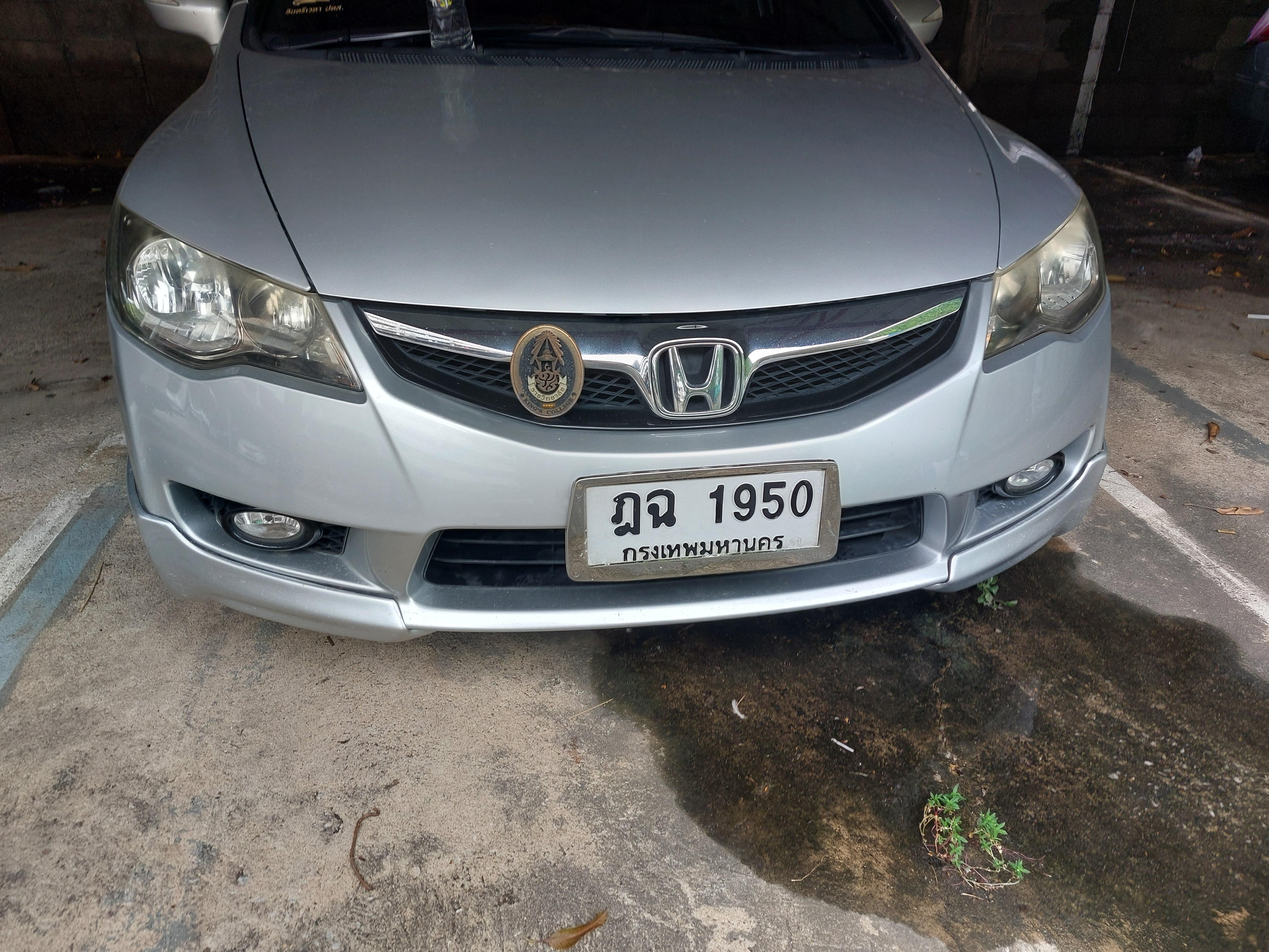license-plate: (561, 456, 844, 589)
